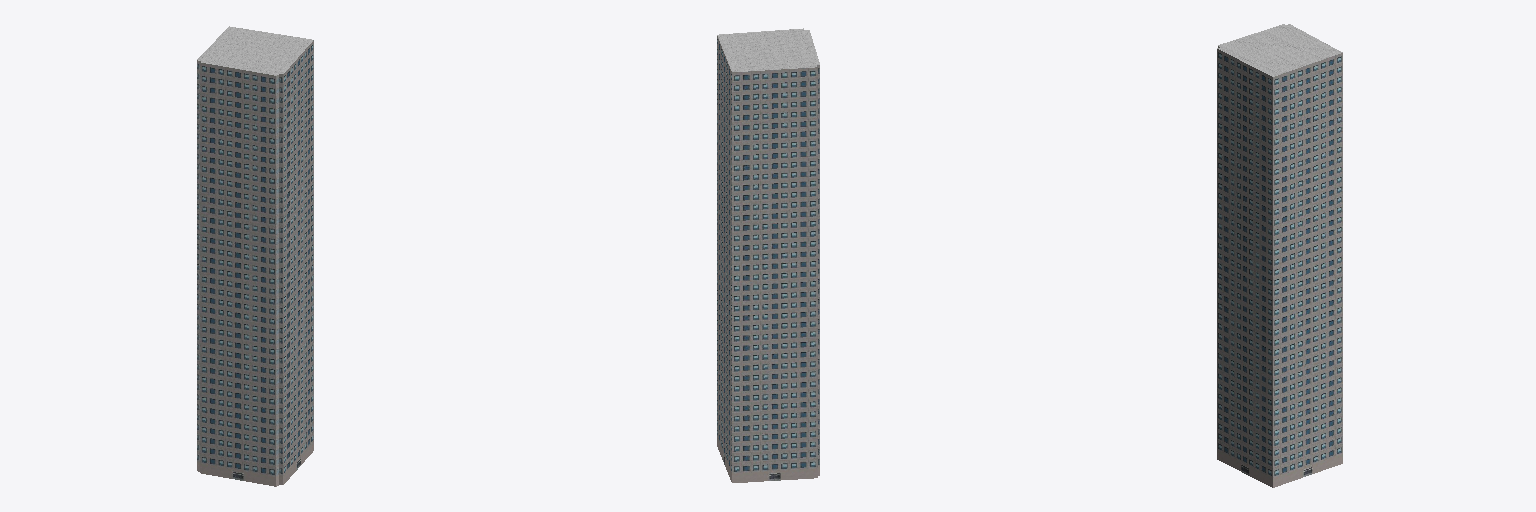
The picture shows the model from 3 angles: view 1: azimuth 30°, elevation 25°; view 2: azimuth 150°, elevation 25°; view 3: azimuth 270°, elevation 25°; orthographic projection.
Visible parts, largest first — view 1: BuildingMaster_[number redacted]_0, BuildingMaster_[number redacted]_1; view 2: BuildingMaster_[number redacted]_0, BuildingMaster_[number redacted]_1; view 3: BuildingMaster_[number redacted]_0, BuildingMaster_[number redacted]_1.
Part boxes in pixels (left/top/right/bottom): BuildingMaster_[number redacted]_0: left=197, top=40, right=313, bottom=486; BuildingMaster_[number redacted]_1: left=197, top=26, right=312, bottom=75; BuildingMaster_[number redacted]_0: left=717, top=36, right=819, bottom=482; BuildingMaster_[number redacted]_1: left=717, top=28, right=819, bottom=71; BuildingMaster_[number redacted]_0: left=1217, top=46, right=1342, bottom=487; BuildingMaster_[number redacted]_1: left=1217, top=24, right=1342, bottom=76.
Size of the model in its own units: 39.88 by 144 by 39.87.
Materials: 2 (2 with a texture image).